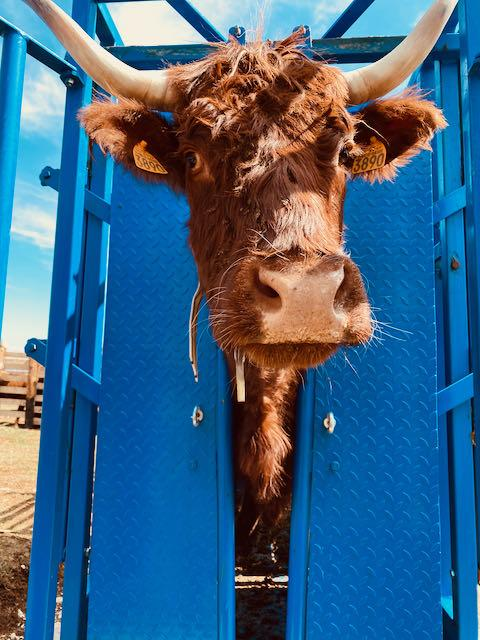muzzles: (214, 255, 376, 365)
